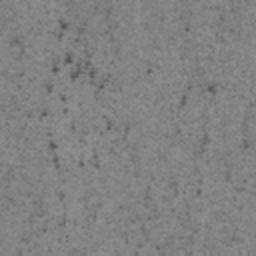Oxide scale of temperature system: (28, 20, 121, 120), (71, 116, 130, 142), (30, 202, 68, 241), (48, 133, 69, 171), (79, 155, 99, 168), (181, 86, 192, 105), (199, 134, 210, 153), (240, 126, 249, 149), (208, 84, 216, 95)
